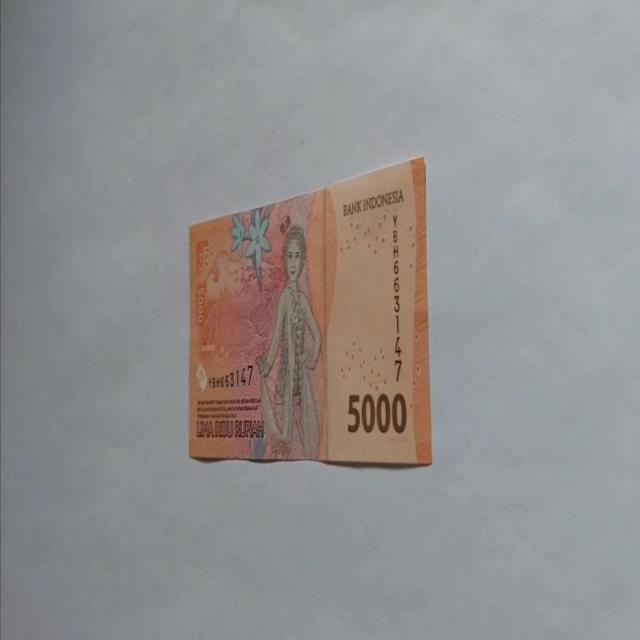lima ribu rupiah: (188, 156, 432, 467), (255, 224, 323, 459)
